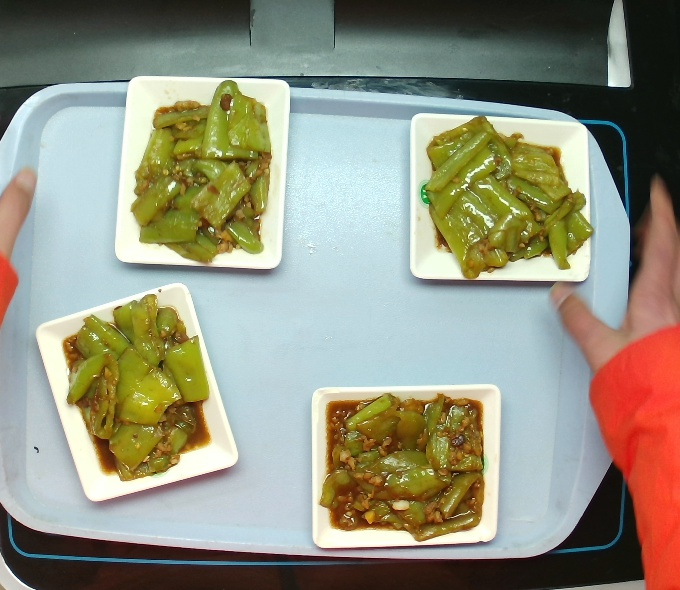wcq-RouMoQingJiao: (58, 281, 215, 498), (419, 108, 587, 292), (123, 73, 280, 269), (323, 389, 478, 540)
